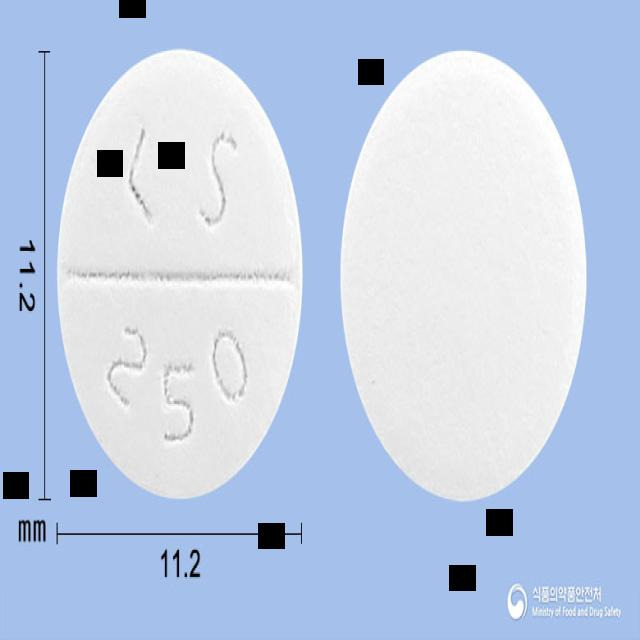Auscle: (56, 47, 304, 501), (340, 48, 588, 502)
